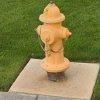a fire hydrant: (36, 2, 73, 76)
